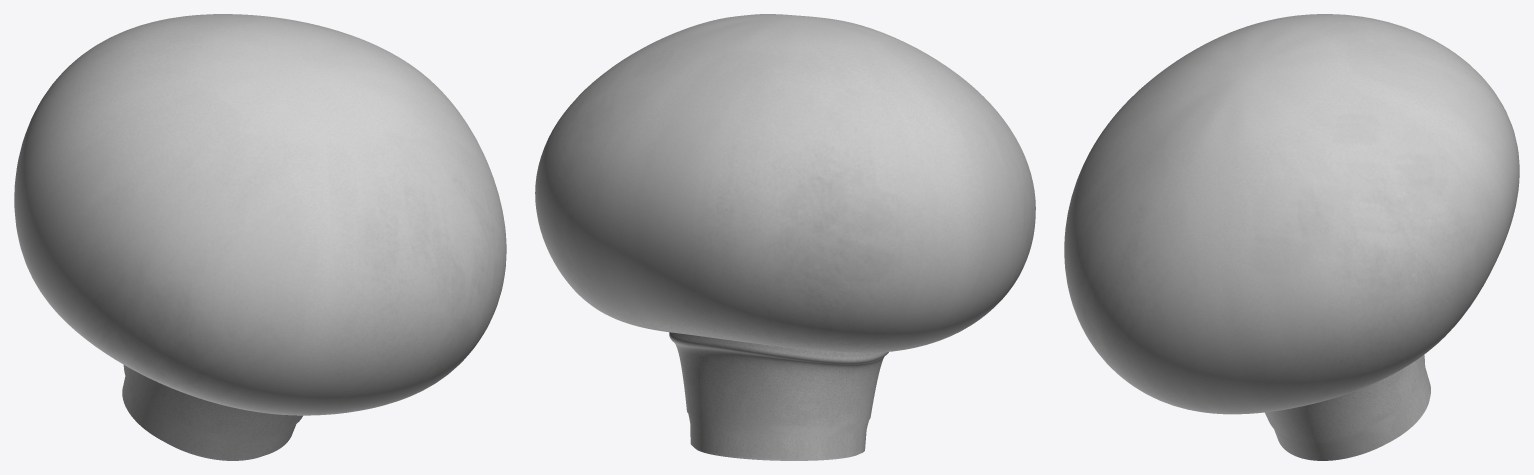
Rendered from 10191_MushroomButton-L2.glb.
3 views of the same model, side by side, from view 1: azimuth 30°, elevation 25°; view 2: azimuth 150°, elevation 25°; view 3: azimuth 270°, elevation 25° (orthographic). The views are drawn at different scales.
Visible parts, largest first — view 1: Justin_Mushroom_Test:B_Mush_Mesh; view 2: Justin_Mushroom_Test:B_Mush_Mesh; view 3: Justin_Mushroom_Test:B_Mush_Mesh.
Boxes of the visible parts, bbox=[...] form: Justin_Mushroom_Test:B_Mush_Mesh: bbox=[14, 14, 506, 460]; Justin_Mushroom_Test:B_Mush_Mesh: bbox=[535, 14, 1035, 460]; Justin_Mushroom_Test:B_Mush_Mesh: bbox=[1064, 14, 1519, 460].
Size of the model in its own units: 4.7 by 4.29 by 4.48.
Materials: 1 (1 with a texture image).
